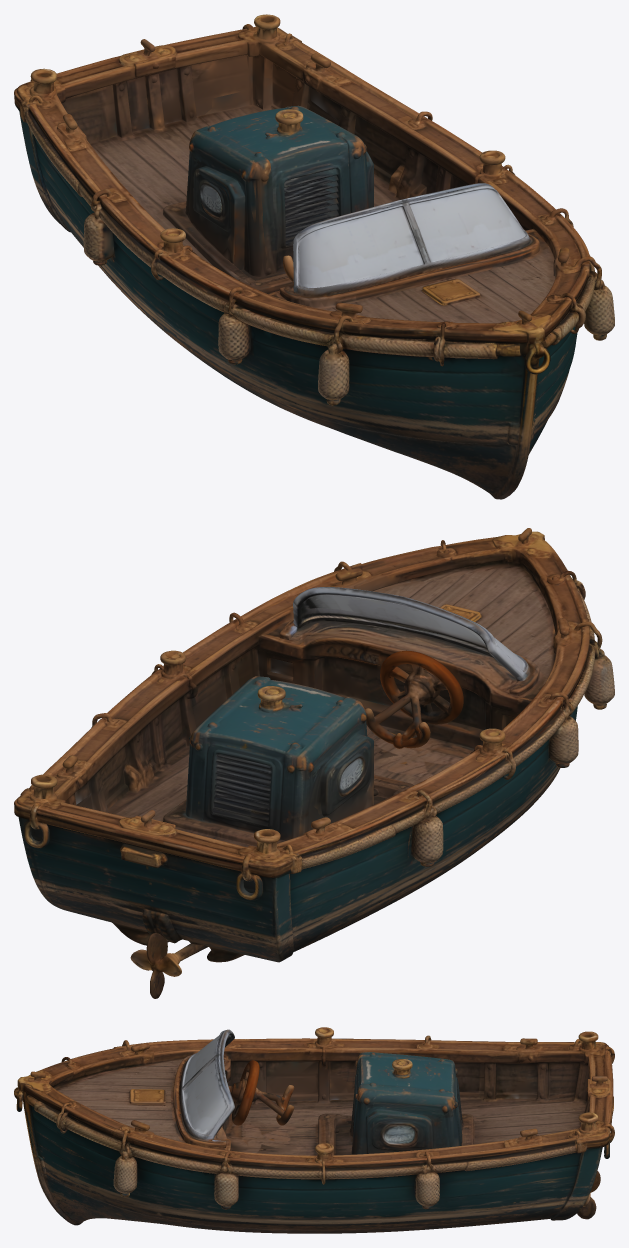
Rendered from boat_launch.glb.
The picture shows the model from 3 angles, top to bottom: view 1: azimuth 30°, elevation 25°; view 2: azimuth 150°, elevation 25°; view 3: azimuth 270°, elevation 25°; orthographic projection. The views are drawn at different scales.
Visible parts, largest first — view 1: material; view 2: material; view 3: material.
Part boxes in pixels (x1,y1,x2,y2): material: (14,14,614,499); material: (14,528,614,998); material: (14,1027,614,1233).
Bounding box in the file's own units: 0.5909 × 0.3541 × 1.13.
Materials: 1 (1 with a texture image).
